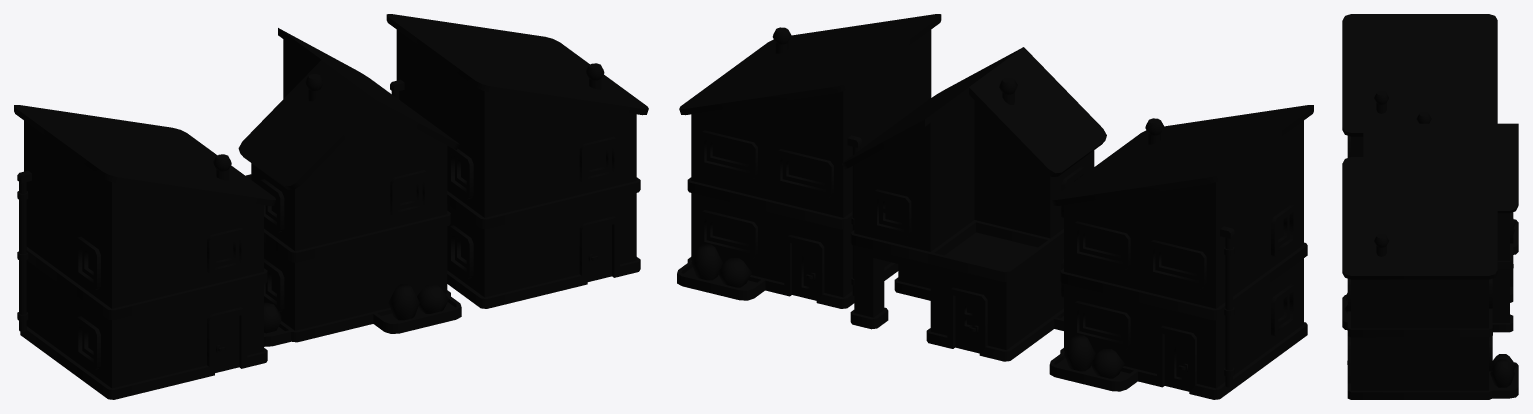
File: terrace.glb
3 views of the same model, side by side, from view 1: azimuth 30°, elevation 25°; view 2: azimuth 150°, elevation 25°; view 3: azimuth 270°, elevation 25° (orthographic). The views are drawn at different scales.
Parts seen in each view (by area): view 1: building-type-k; view 2: building-type-k; view 3: building-type-k.
Part boxes in pixels (x1,y1,x2,y2): building-type-k: (14,14,648,399); building-type-k: (677,14,1313,399); building-type-k: (1342,14,1518,399).
Size of the model in its own units: 2.88 by 1.15 by 1.02.
1 material, 1 textured.
